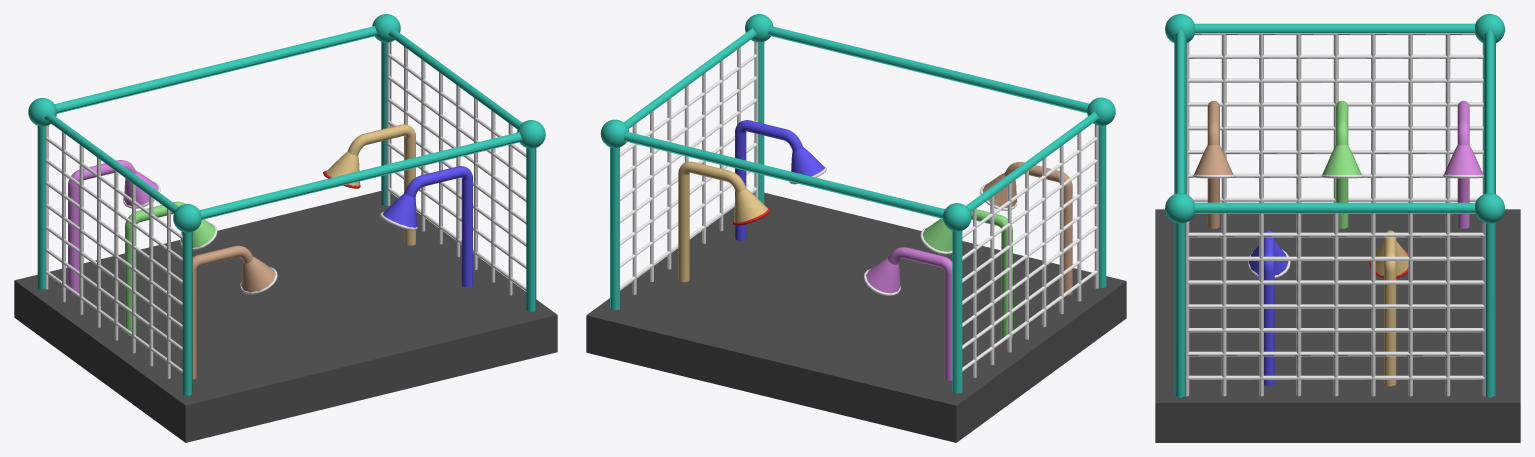
File: ingredient_box.FBX
3 renders of one model, left to right at view 1: azimuth 30°, elevation 25°; view 2: azimuth 150°, elevation 25°; view 3: azimuth 270°, elevation 25°, orthographic. The views are drawn at different scales.
Visible parts, largest first — view 1: outer_box, Base, side_bar2, side_bar, sprinkle_stand003, sprinkle_stand002, sprinkle_stand004, sprinkle_stand, sprinkle_stand001, mainbody_a, mainbody_a003, mainbody_a004; view 2: outer_box, Base, side_bar2, side_bar, sprinkle_stand004, sprinkle_stand002, sprinkle_stand003, sprinkle_stand, sprinkle_stand001, mainbody_a002, mainbody_a004, mainbody_a001 (+1 smaller); view 3: outer_box, side_bar, Base, side_bar2, sprinkle_stand004, sprinkle_stand003, sprinkle_stand, sprinkle_stand002, sprinkle_stand001, mainbody_a001, mainbody_a, mainbody_a002 (+2 smaller).
Part boxes in pixels (bbox=[...]): outer_box: bbox=[14, 191, 557, 442]; Base: bbox=[28, 14, 545, 395]; side_bar2: bbox=[45, 125, 182, 378]; side_bar: bbox=[386, 42, 526, 295]; sprinkle_stand003: bbox=[404, 166, 472, 287]; sprinkle_stand002: bbox=[68, 160, 136, 294]; sprinkle_stand004: bbox=[347, 124, 415, 245]; sprinkle_stand: bbox=[192, 245, 253, 379]; sprinkle_stand001: bbox=[125, 201, 185, 335]; mainbody_a: bbox=[241, 256, 275, 292]; mainbody_a003: bbox=[383, 193, 416, 227]; mainbody_a004: bbox=[325, 151, 360, 186]; outer_box: bbox=[586, 192, 1126, 442]; Base: bbox=[600, 14, 1115, 393]; side_bar2: bbox=[962, 124, 1098, 377]; side_bar: bbox=[620, 42, 758, 294]; sprinkle_stand004: bbox=[678, 161, 746, 282]; sprinkle_stand002: bbox=[888, 247, 952, 380]; sprinkle_stand003: bbox=[735, 120, 802, 240]; sprinkle_stand: bbox=[1004, 162, 1072, 295]; sprinkle_stand001: bbox=[971, 209, 1012, 339]; mainbody_a002: bbox=[866, 258, 900, 293]; mainbody_a004: bbox=[734, 188, 767, 222]; mainbody_a001: bbox=[923, 218, 952, 251]; outer_box: bbox=[1155, 209, 1520, 442]; side_bar: bbox=[1185, 212, 1485, 396]; Base: bbox=[1165, 14, 1504, 397]; side_bar2: bbox=[1186, 33, 1483, 202]; sprinkle_stand004: bbox=[1384, 230, 1396, 386]; sprinkle_stand003: bbox=[1264, 230, 1274, 386]; sprinkle_stand: bbox=[1207, 100, 1219, 228]; sprinkle_stand002: bbox=[1457, 100, 1469, 228]; sprinkle_stand001: bbox=[1336, 100, 1348, 228]; mainbody_a001: bbox=[1322, 145, 1361, 174]; mainbody_a: bbox=[1194, 145, 1233, 174]; mainbody_a002: bbox=[1444, 145, 1483, 174].
Bounding box in the file's own units: 374 × 218 × 298.
